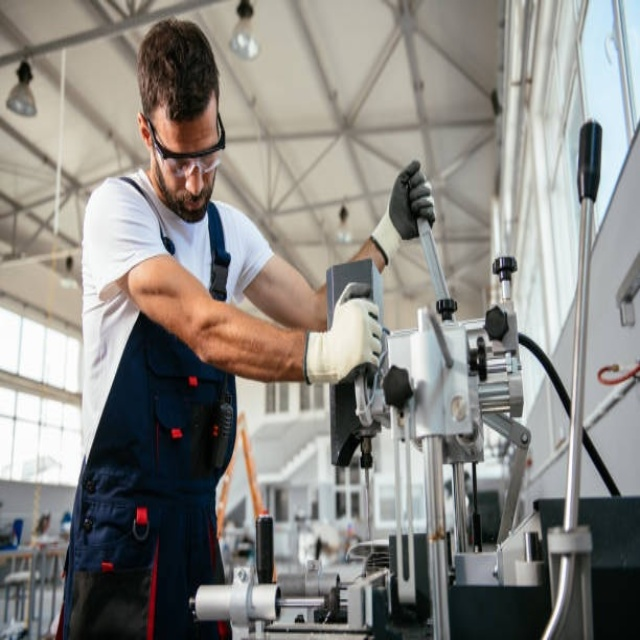Gafas: (145, 108, 226, 178)
Guantes: (304, 293, 381, 385), (374, 160, 434, 260)
Sin_mascara: (175, 180, 212, 221)
